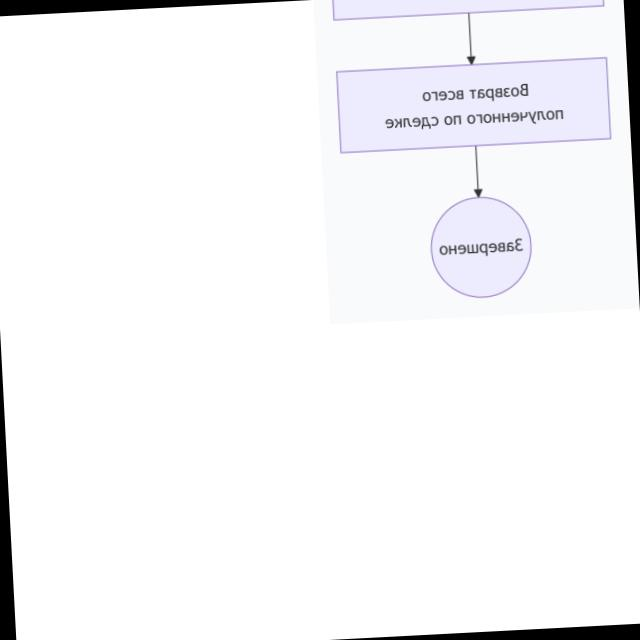arrow: (473, 147, 481, 197), (466, 14, 474, 64)
circle: (430, 197, 531, 298)
rectangle: (336, 59, 610, 153)
